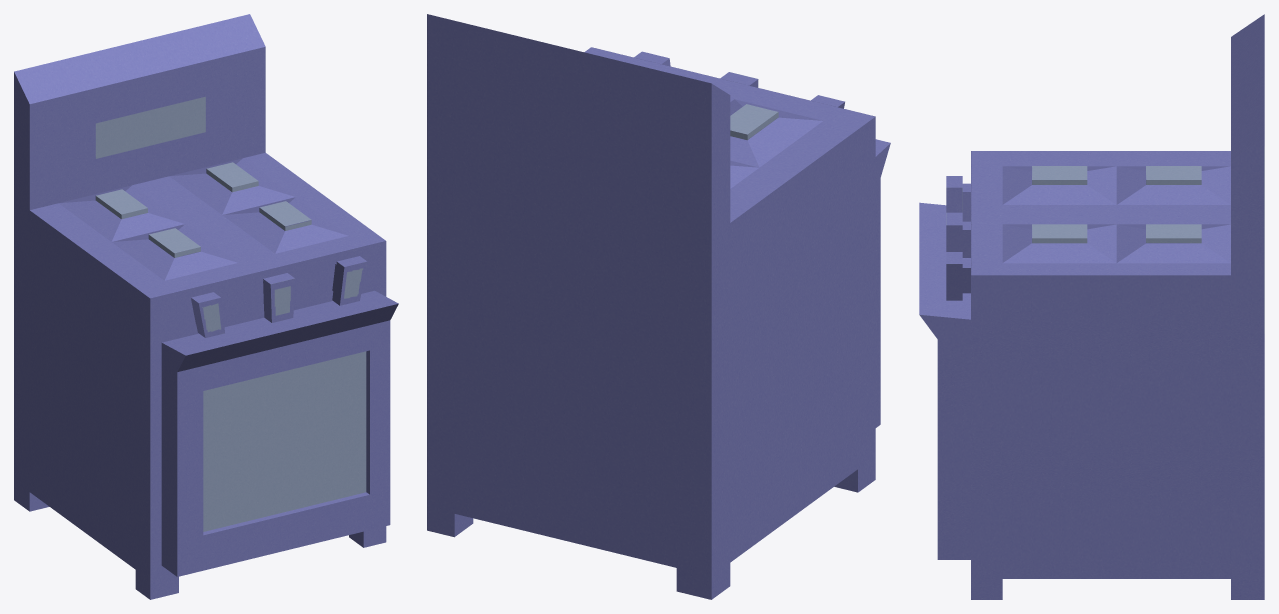
Rendered from HLStove.fbx.
3 views of the same model, side by side, from view 1: azimuth 30°, elevation 25°; view 2: azimuth 150°, elevation 25°; view 3: azimuth 270°, elevation 25° (orthographic). The views are drawn at different scales.
Visible parts, largest first — view 1: Stove; view 2: Stove; view 3: Stove.
Boxes of the visible parts, x1,y1,x2,y2 form: Stove: (14,14,398,599); Stove: (427,14,890,599); Stove: (919,14,1264,599).
Size of the model in its own units: 73.26 by 127 by 86.19.
